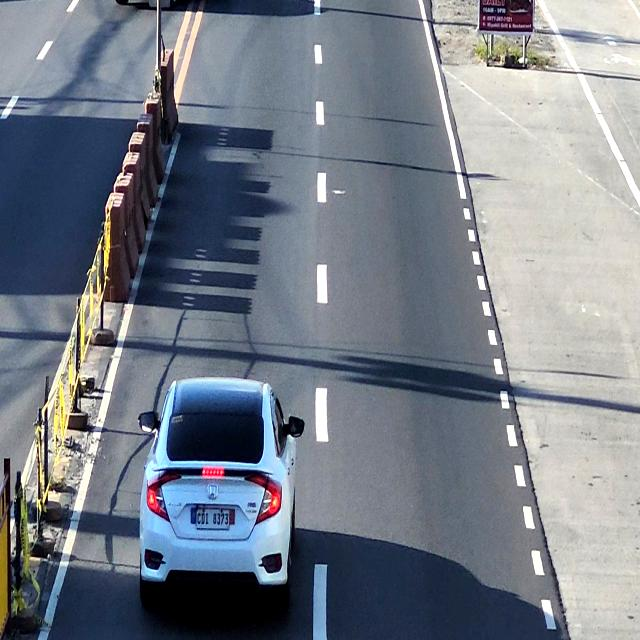Car: (138, 377, 296, 606)
License-Plate: (195, 509, 232, 533)
